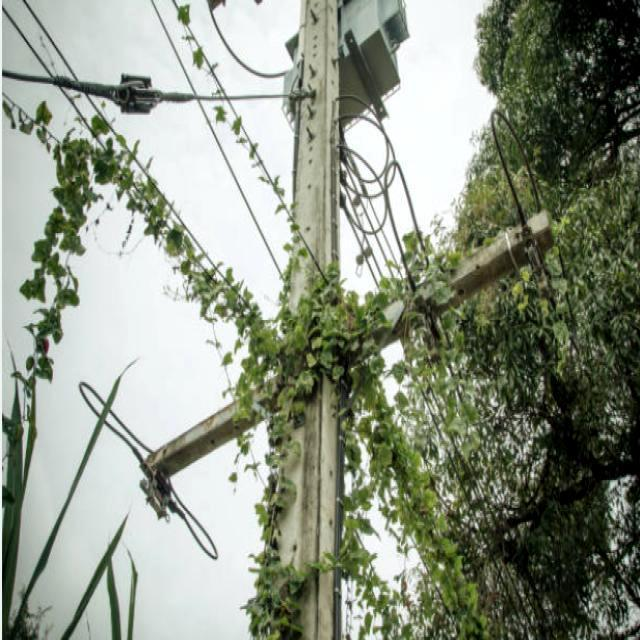critical vegetation: (244, 250, 374, 430), (250, 444, 319, 636)
